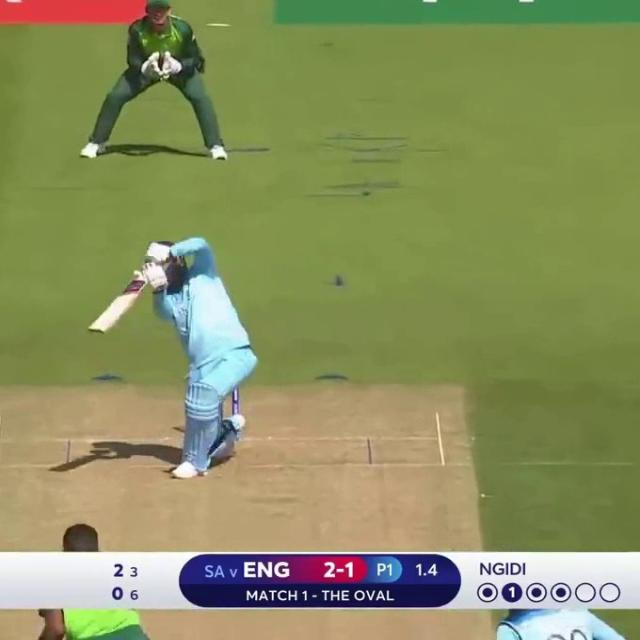bat: (89, 276, 145, 332)
toe: (84, 326, 108, 335)
